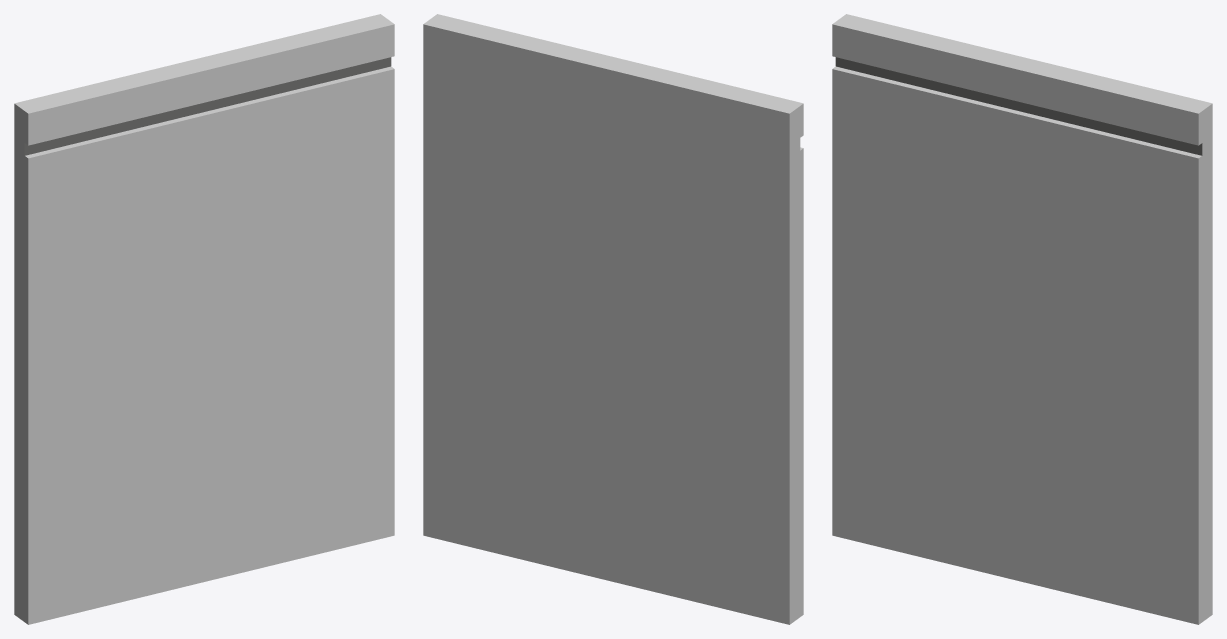
File: Entrance_Wall.fbx
The picture shows the model from 3 angles, left to right: view 1: azimuth 30°, elevation 25°; view 2: azimuth 150°, elevation 25°; view 3: azimuth 330°, elevation 25°; orthographic projection.
Parts seen in each view (by area): view 1: Entrance_Wall; view 2: Entrance_Wall; view 3: Entrance_Wall.
Part boxes in pixels (x1,y1,x2,y2): Entrance_Wall: (14, 14, 394, 624); Entrance_Wall: (423, 14, 803, 624); Entrance_Wall: (832, 14, 1212, 624).
Size of the model in its own units: 3 by 4 by 0.2.
